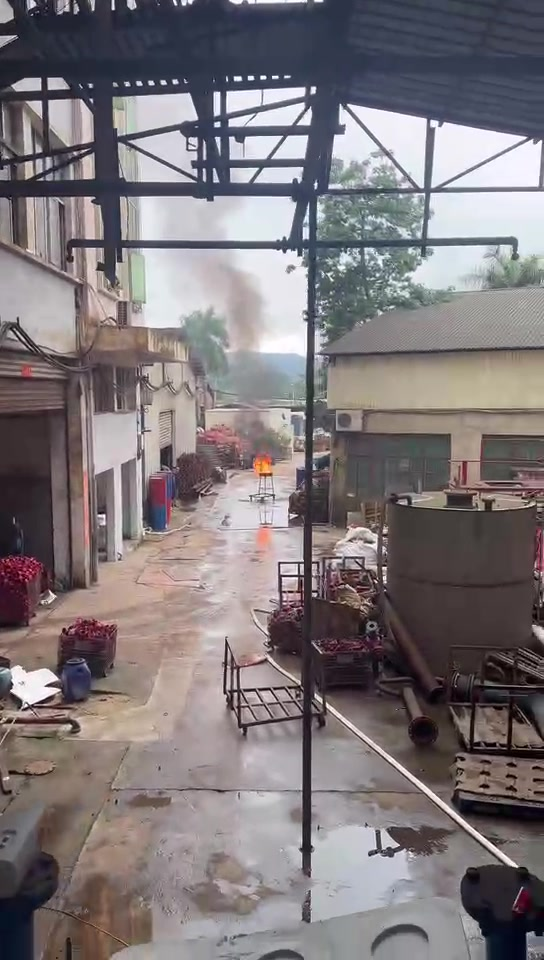fire: (253, 452, 271, 472)
